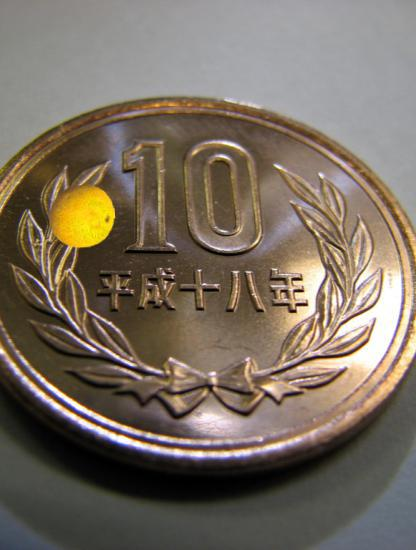Cantaloupe: (49, 183, 116, 250)
